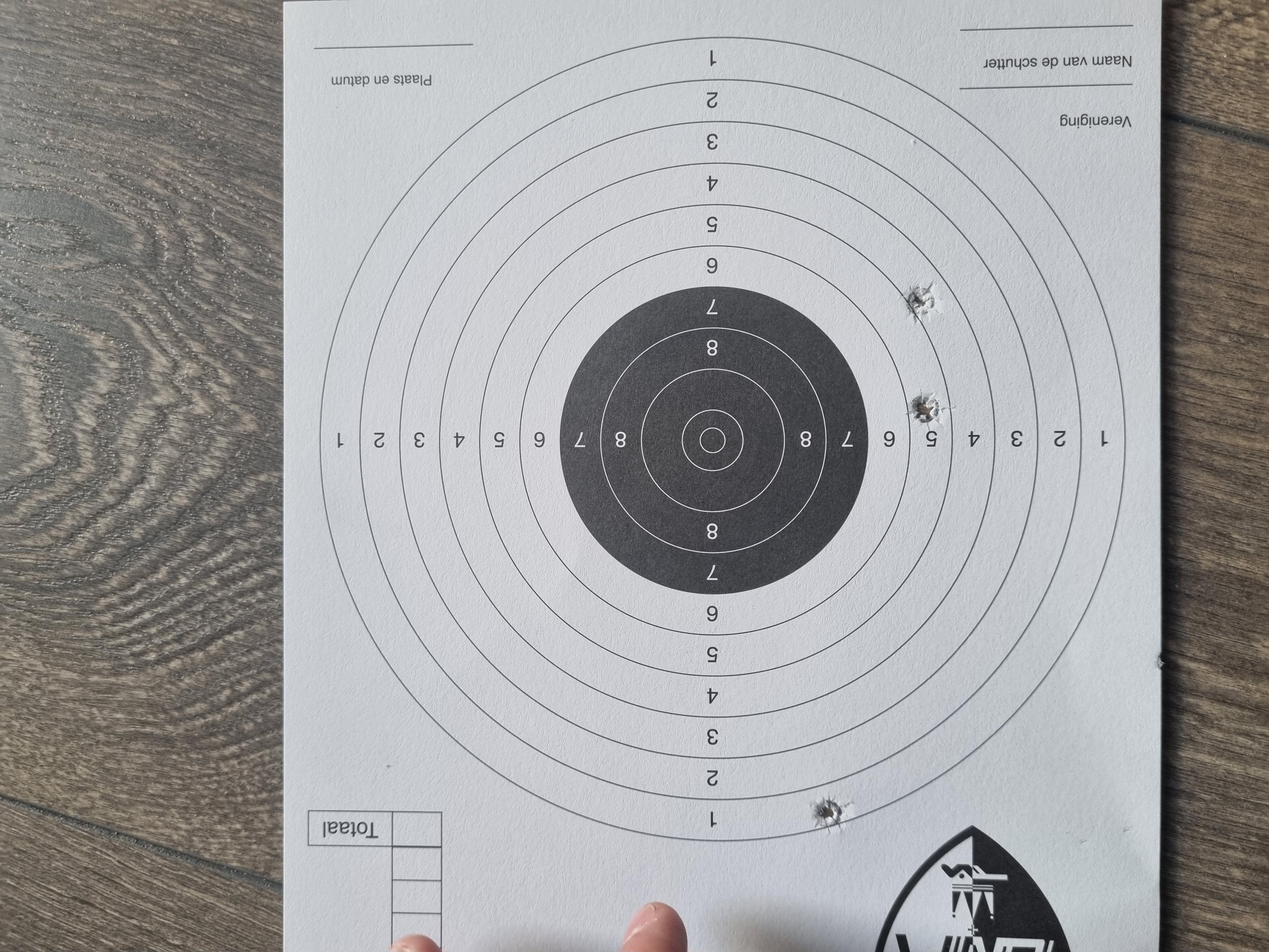hole: (696, 681, 746, 716), (158, 609, 207, 640), (840, 680, 895, 702)
